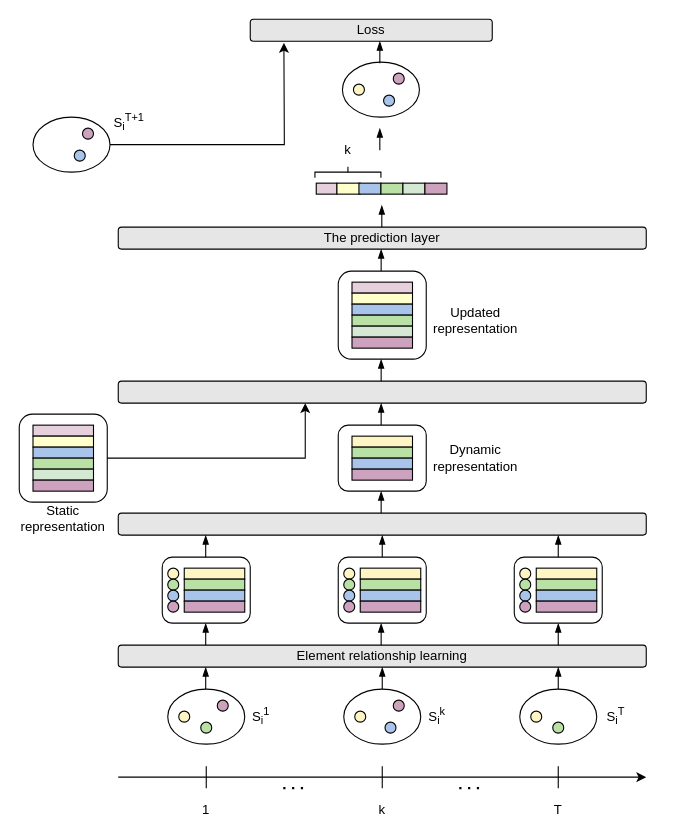
The diagram is 674 pixels wide and 840 high, and some of its shapes have lost their labels. Each missing label, with the centre of its shape:
"Attention-based temporal dependency learning" belongs at point 381,523.
"Gated information fusing" belongs at point 381,391.
